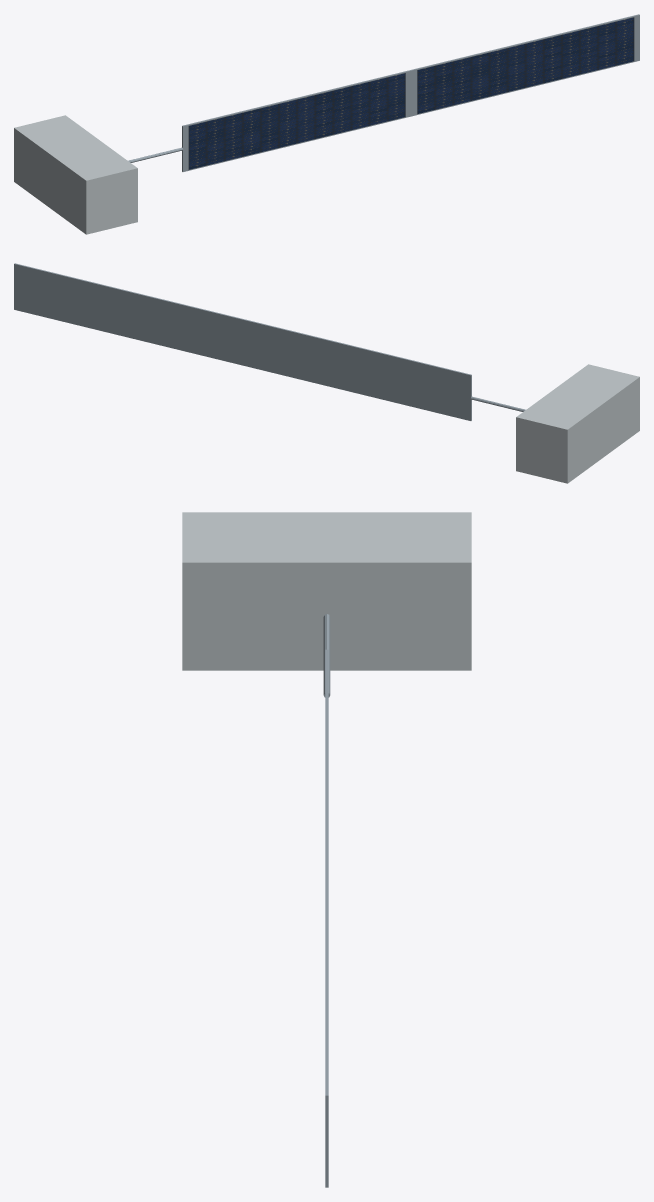
Rendered from ref-ets-7-target-25424.glb.
3 views of the same model, one above another, from view 1: azimuth 30°, elevation 25°; view 2: azimuth 150°, elevation 25°; view 3: azimuth 270°, elevation 25° (orthographic). The views are drawn at different scales.
Parts seen in each view (by area): view 1: Photovoltaic laminates (×2), Spacecraft body, Array frame (×2); view 2: Array frame (×2), Spacecraft body; view 3: Spacecraft body, Array frame.
Part boxes in pixels (x1=…): Photovoltaic laminates (×2): x1=188, y1=17, x2=634, y2=169; Spacecraft body: x1=14, y1=115, x2=137, y2=234; Array frame (×2): x1=182, y1=14, x2=639, y2=171; Array frame (×2): x1=14, y1=263, x2=471, y2=420; Spacecraft body: x1=516, y1=364, x2=639, y2=483; Spacecraft body: x1=182, y1=512, x2=471, y2=670; Array frame: x1=325, y1=872, x2=328, y2=1187.
Bounding box in the file's own units: 8 × 0.7 × 1.7.
Materials: 3 (1 with a texture image).
